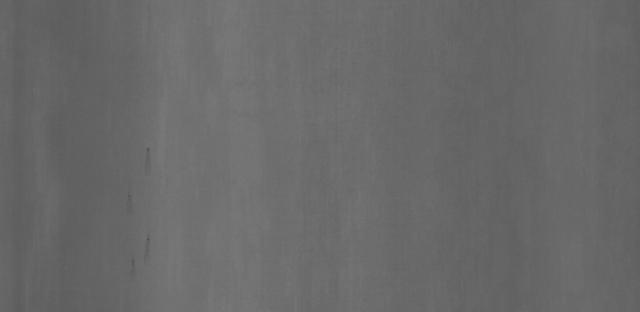water_spot: (119, 134, 169, 278)
